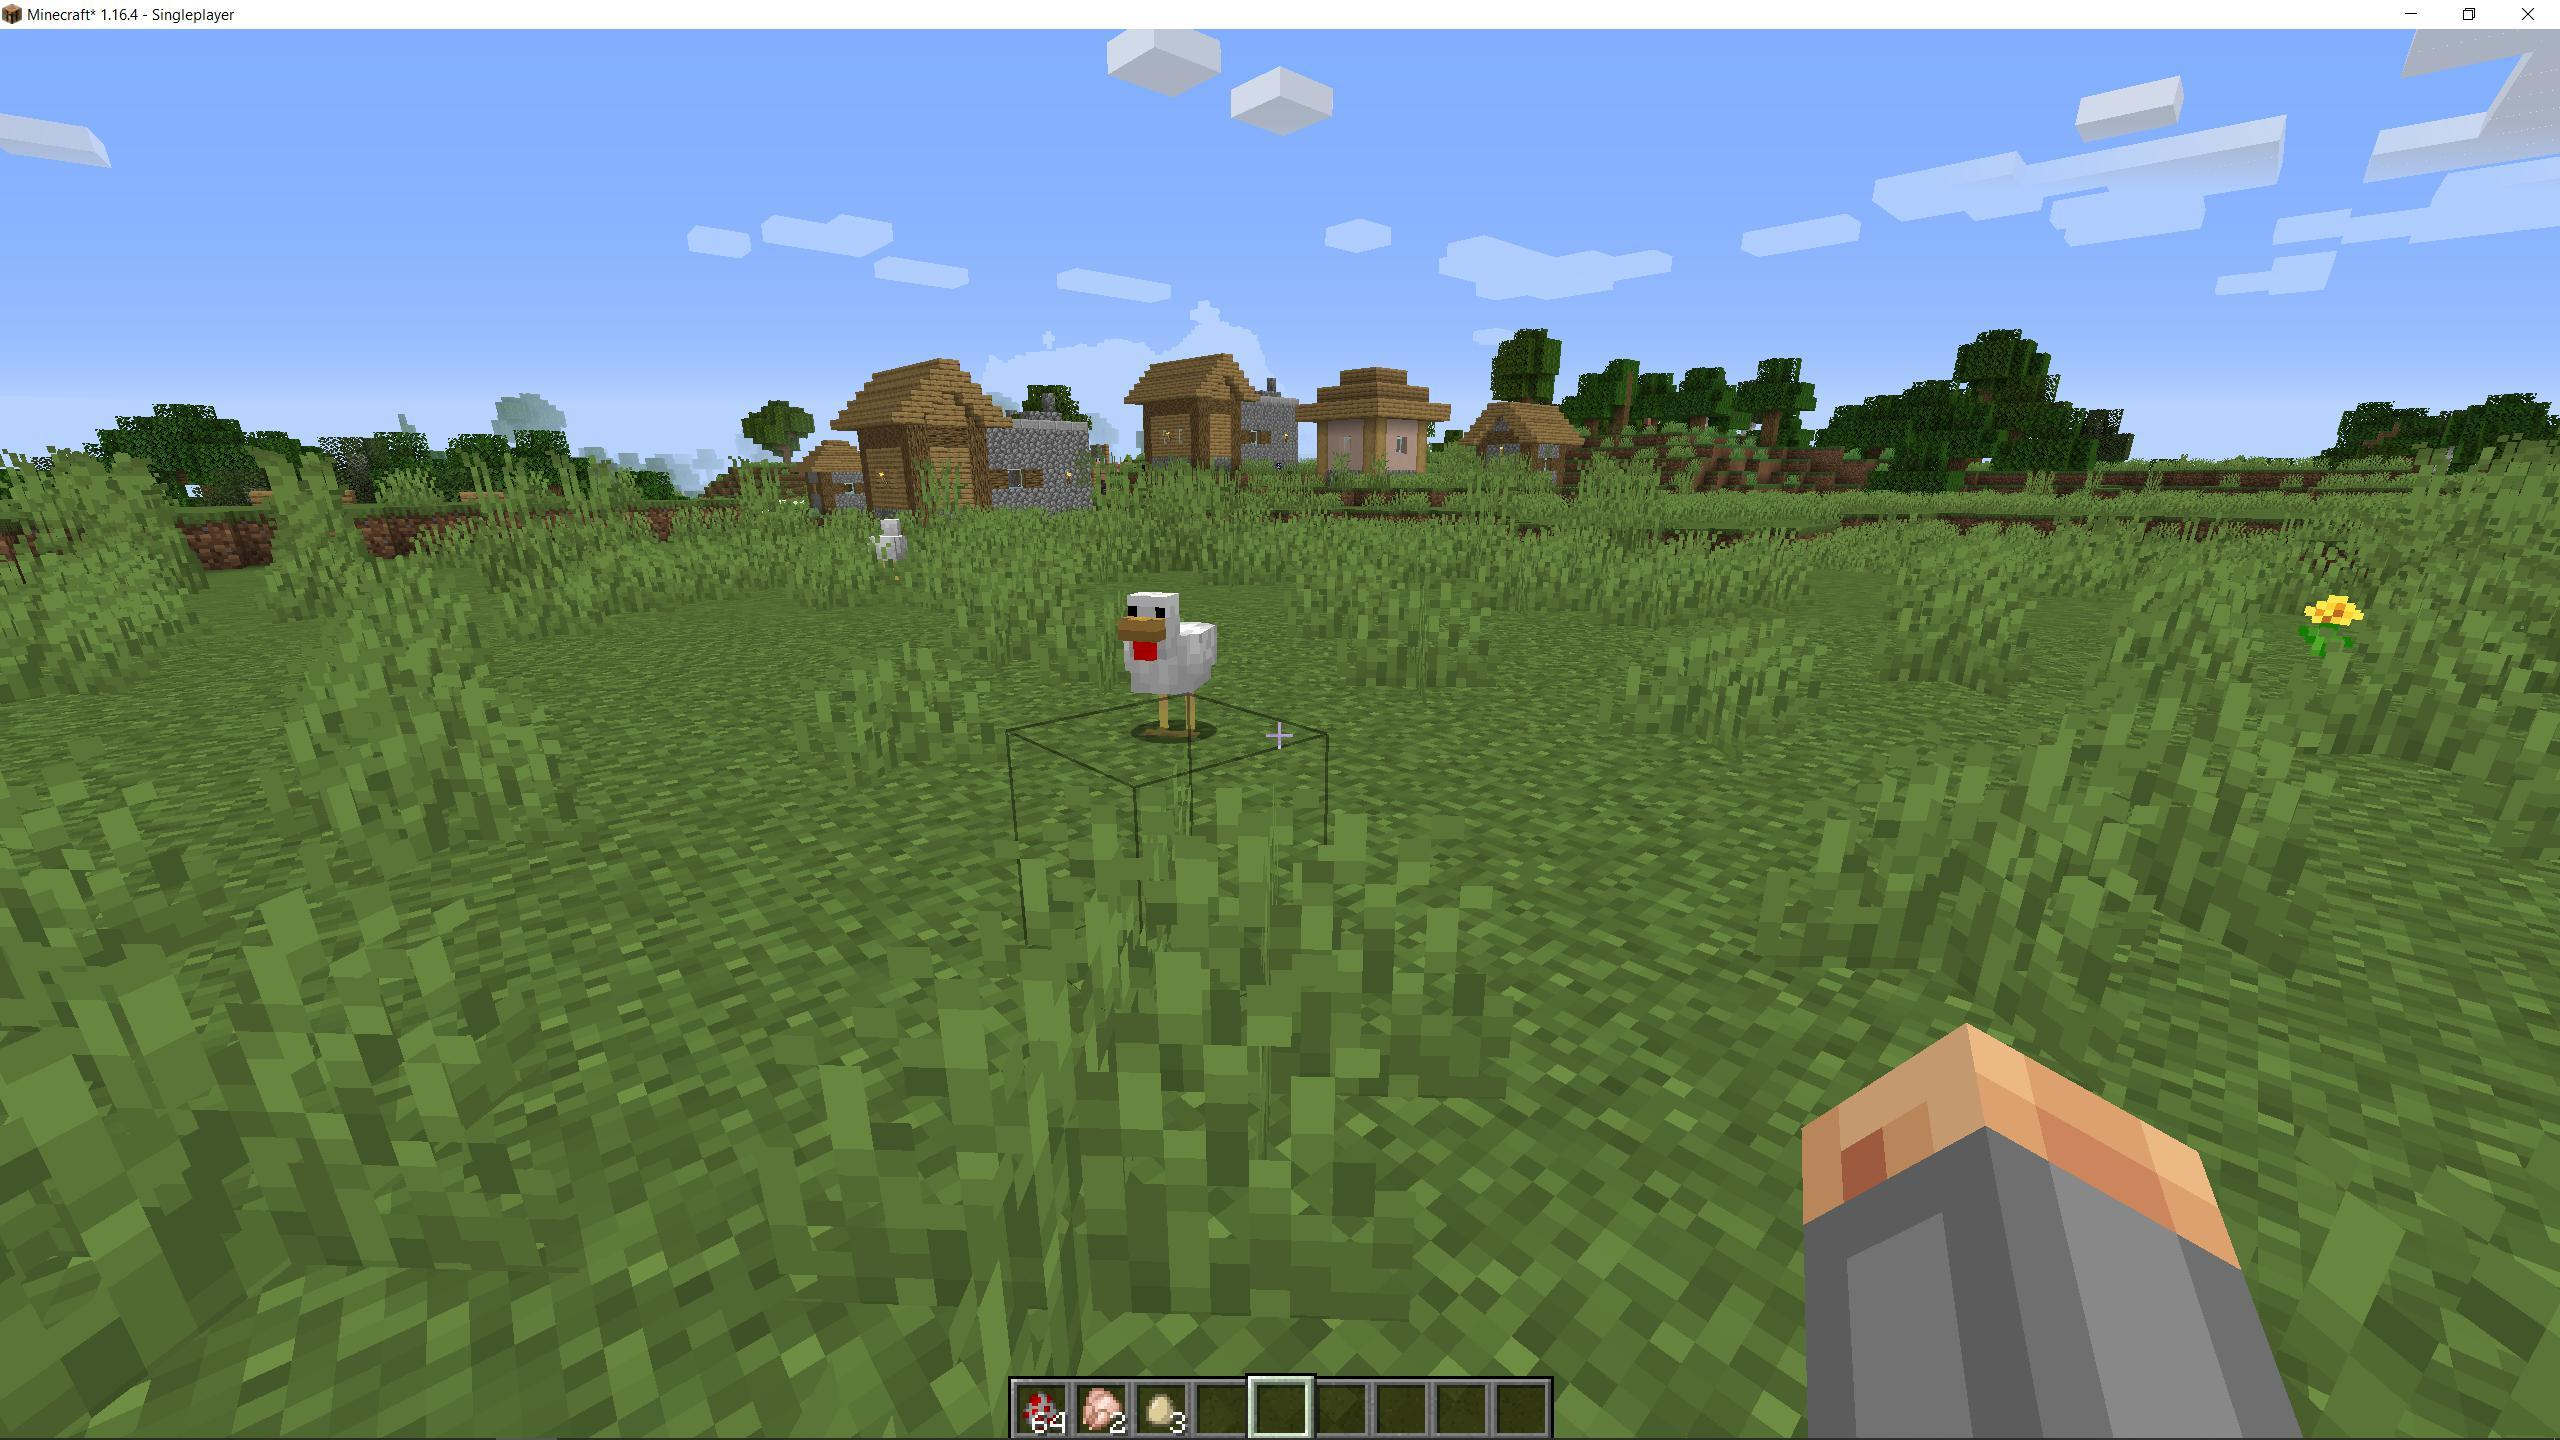chicken: (1101, 580, 1240, 753), (846, 513, 932, 596)
